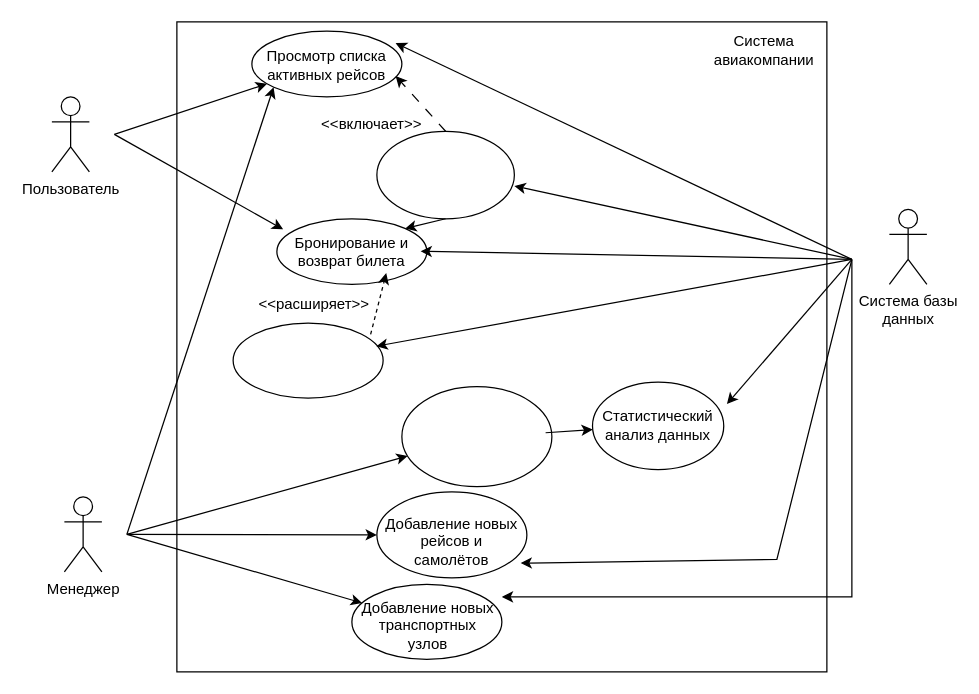
Image size: 979x694. Some labels were removed from this diagram. The shapes that lost their labels are listed below. From the top down, each one's centre as x and y in pixels, then its label:
At point (445, 174): "Просмотр числа свободных мест на рейсе".
At point (307, 360): "Операции с заказом услуги перевозки багажа".
At point (476, 436): "Мониторинг пользователей, истории полётов, авиапарка".
